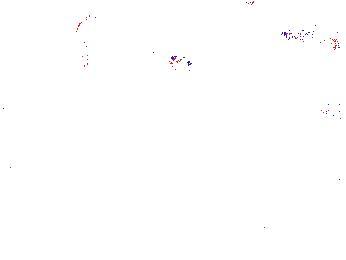red belly glassfish: (149, 48, 193, 69)
redtail glassfish: (279, 21, 346, 44), (72, 12, 97, 69), (315, 99, 346, 118)
siberian prawn: (175, 220, 200, 260)
